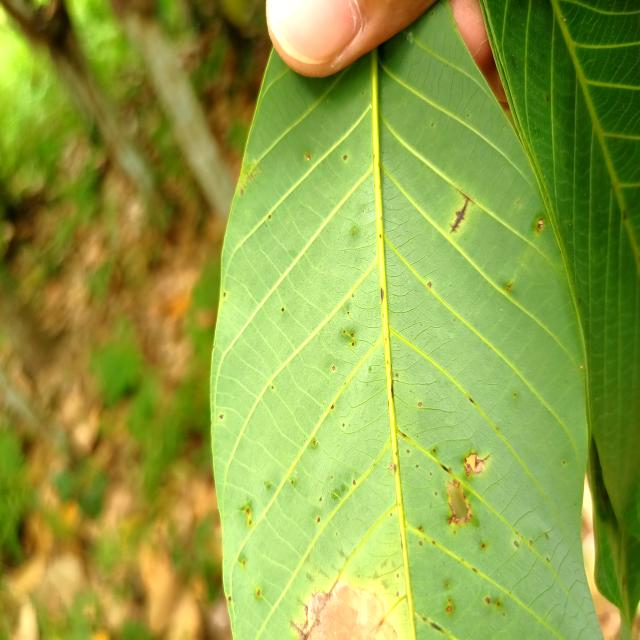Colletotrichum: (446, 605, 452, 612), (427, 281, 432, 287), (343, 154, 347, 160), (332, 366, 336, 371), (220, 414, 224, 419), (419, 541, 423, 546), (418, 402, 422, 407), (257, 590, 260, 596), (246, 508, 249, 514), (228, 596, 232, 600), (353, 480, 356, 485), (351, 333, 354, 337), (281, 308, 284, 312), (396, 591, 399, 595), (433, 448, 436, 452), (331, 405, 334, 409), (342, 423, 345, 427), (397, 573, 399, 578), (358, 574, 360, 578), (243, 560, 245, 564), (292, 480, 294, 484), (352, 342, 354, 346), (343, 331, 345, 334), (314, 441, 316, 444), (396, 374, 398, 377), (347, 312, 349, 314)
Corynespora: (449, 197, 469, 234)
Leaf-Blight: (304, 579, 397, 640)
